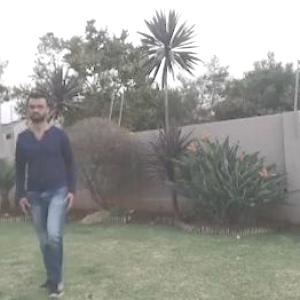follow: (23, 95, 74, 276)
